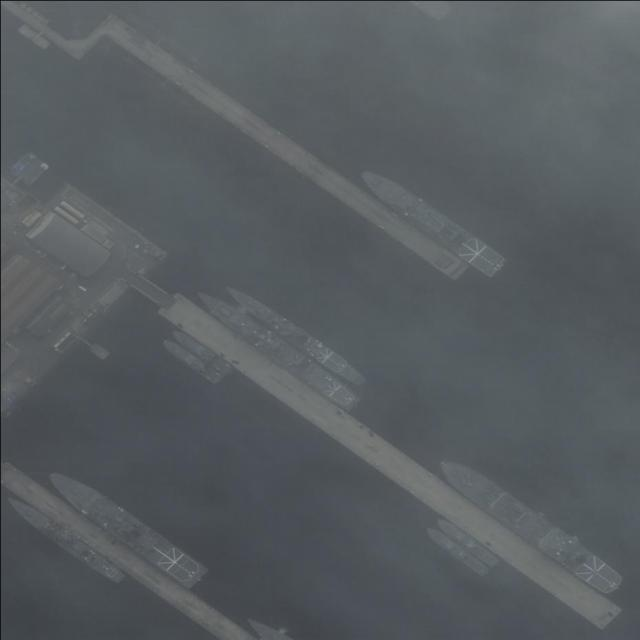Auxiliary Ships: (435, 454, 625, 599), (41, 462, 211, 595), (354, 162, 506, 281)
Destroyer: (189, 284, 363, 417), (218, 279, 367, 389)
Dock: (134, 279, 623, 626), (106, 25, 472, 279)
Other Warship: (3, 491, 127, 586), (423, 524, 491, 579), (433, 514, 500, 569)
